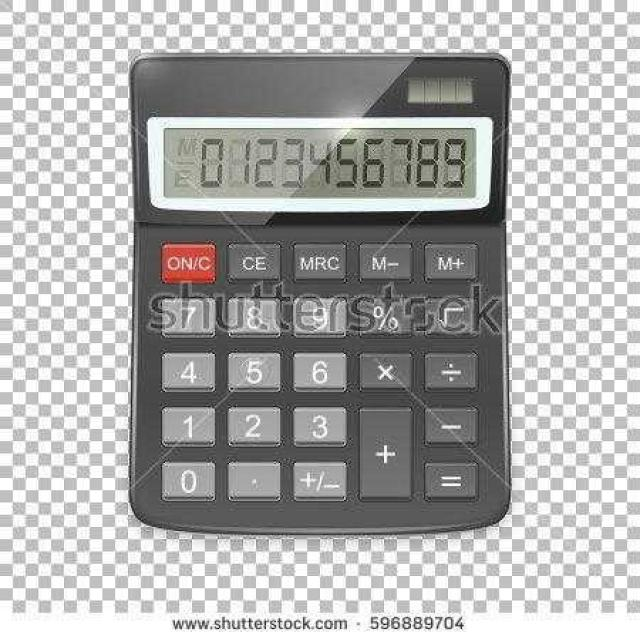Calculator: (127, 51, 512, 536)
